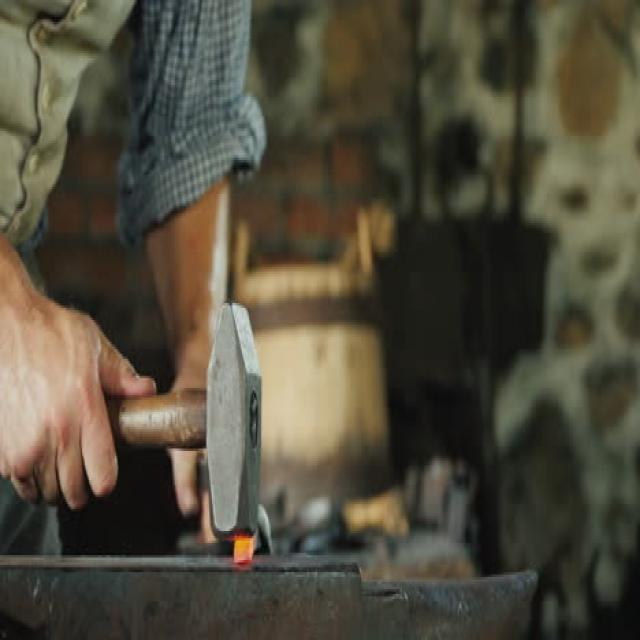hammer: (102, 291, 280, 543)
